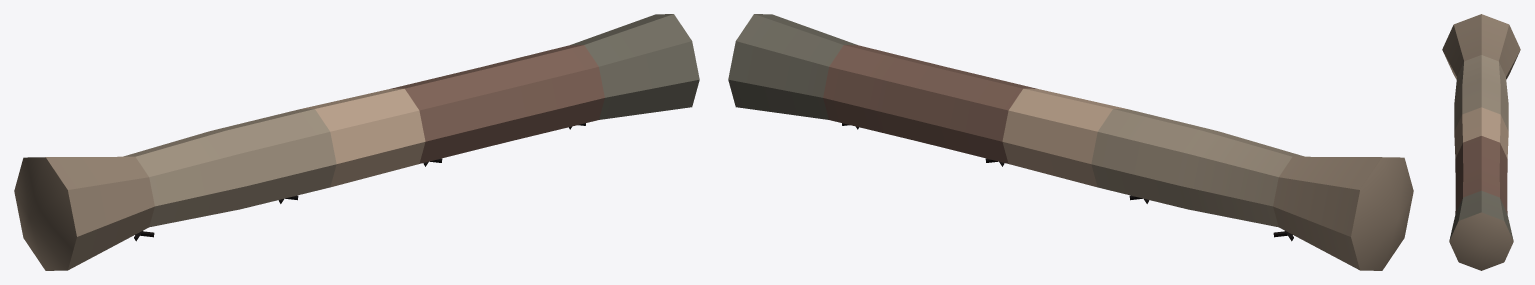
Rendered from stitchface_upperarm.glb.
The picture shows the model from 3 angles, left to right: view 1: azimuth 30°, elevation 25°; view 2: azimuth 150°, elevation 25°; view 3: azimuth 270°, elevation 25°; orthographic projection. The views are drawn at different scales.
Parts seen in each view (by area): view 1: stitchface_upperarm; view 2: stitchface_upperarm; view 3: stitchface_upperarm.
Boxes of the visible parts, box(x1,y1,x2,y2) form: stitchface_upperarm: box(14, 14, 699, 270); stitchface_upperarm: box(728, 14, 1413, 270); stitchface_upperarm: box(1442, 14, 1520, 270).
Size of the model in its own units: 0.576 by 0.0952 by 0.0952.
